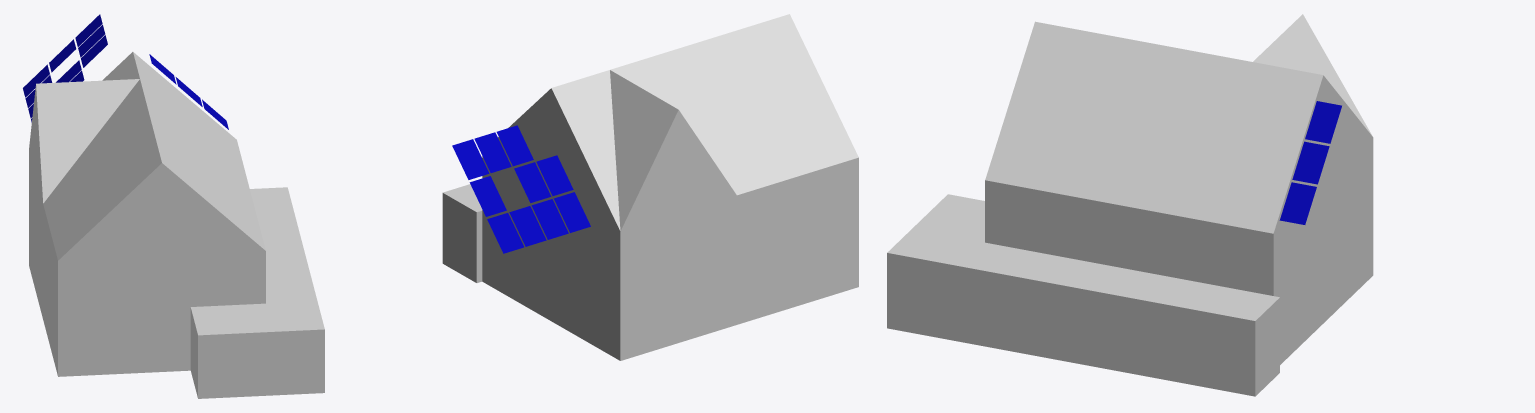
File: sur.glb
3 views of the same model, side by side, from view 1: azimuth 30°, elevation 25°; view 2: azimuth 150°, elevation 25°; view 3: azimuth 270°, elevation 25° (orthographic). The views are drawn at different scales.
Bounding box in the file's own units: 16.33 × 10.69 × 24.71.
